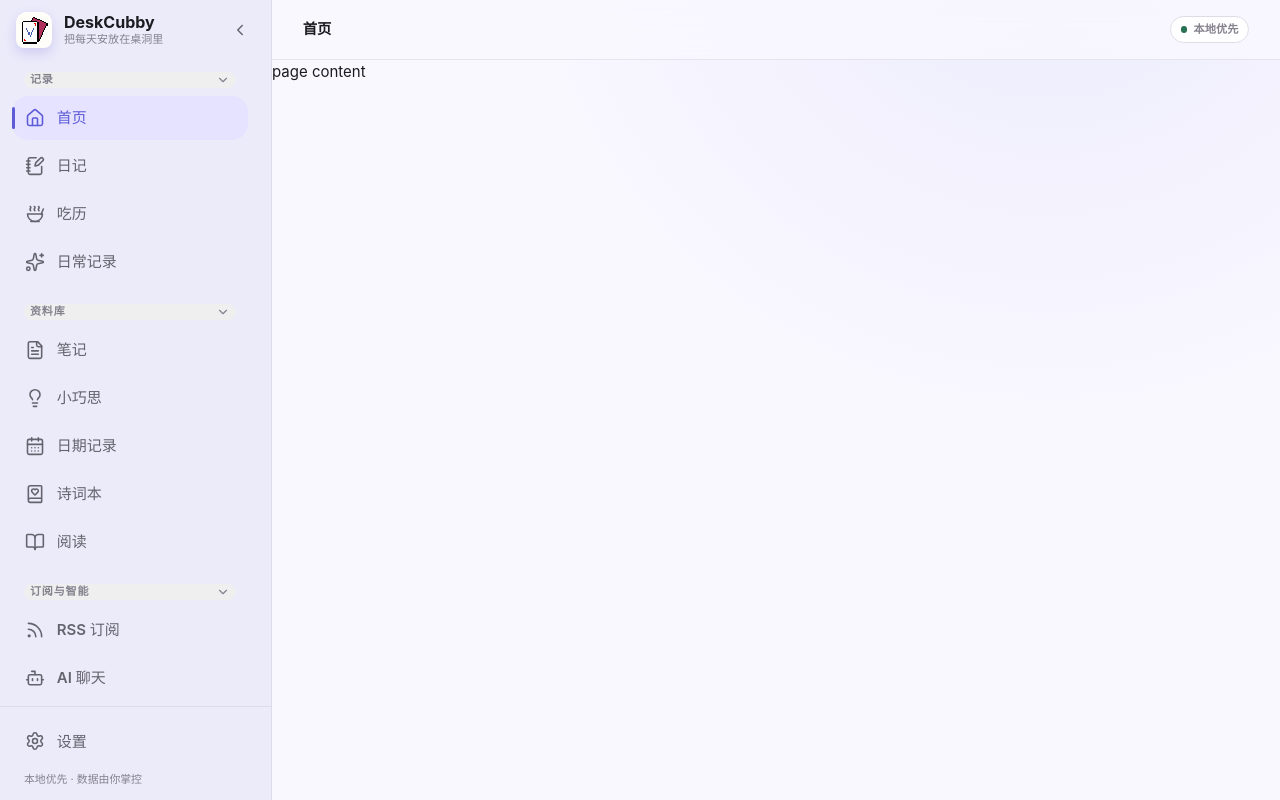
Test: AppShell › visually collapses a category without leaving its links in the tab order
The image size is (1280, 800).
Expected: the element with id "navigation-category-capture" is shown, [12, 96, 248, 284]
Click the button with aria-label "收起分类：记录" at (130, 80), box [24, 72, 236, 88]
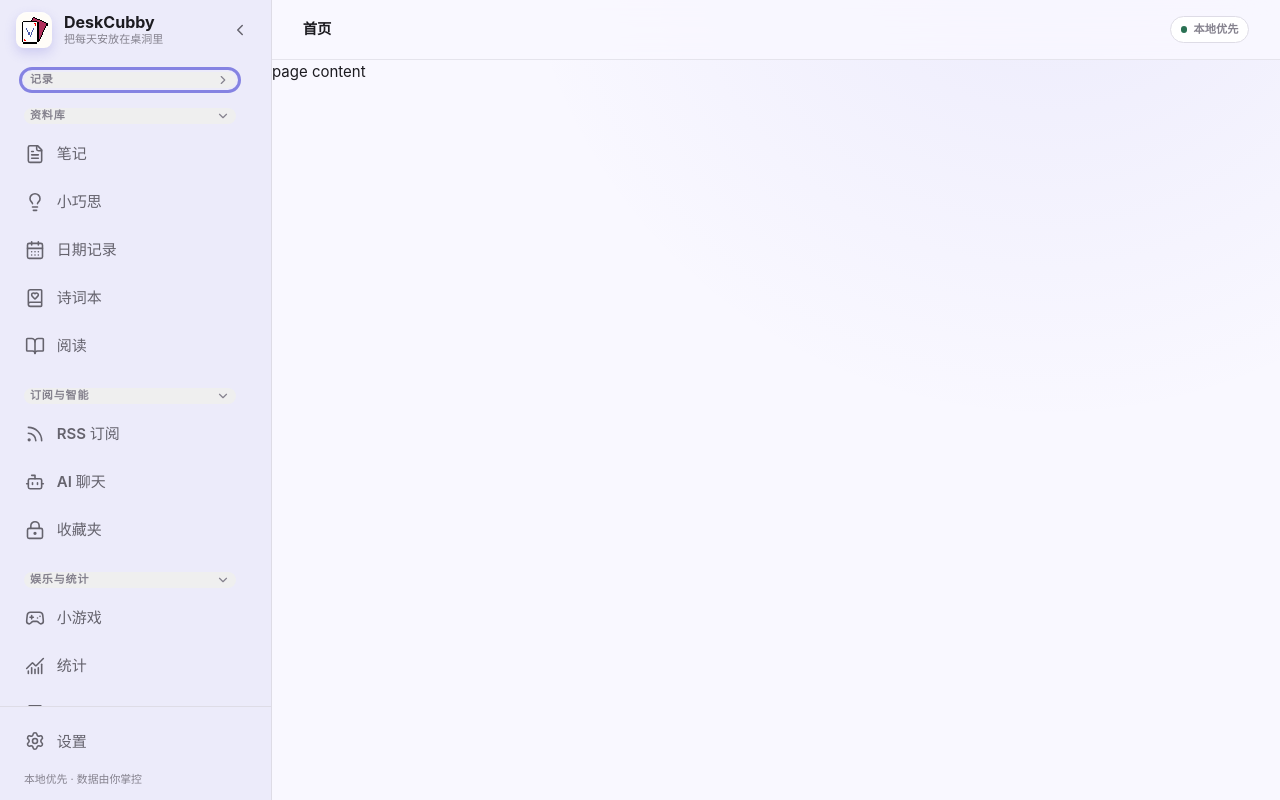
Expected: the link "设置" is shown, [25, 731, 87, 751]
Expected: the button named "收起分类：记录" is collapsed
Expected: the link "日记" is gone
Click the button with aria-label "展开分类：记录" at (130, 80), box [24, 72, 236, 88]
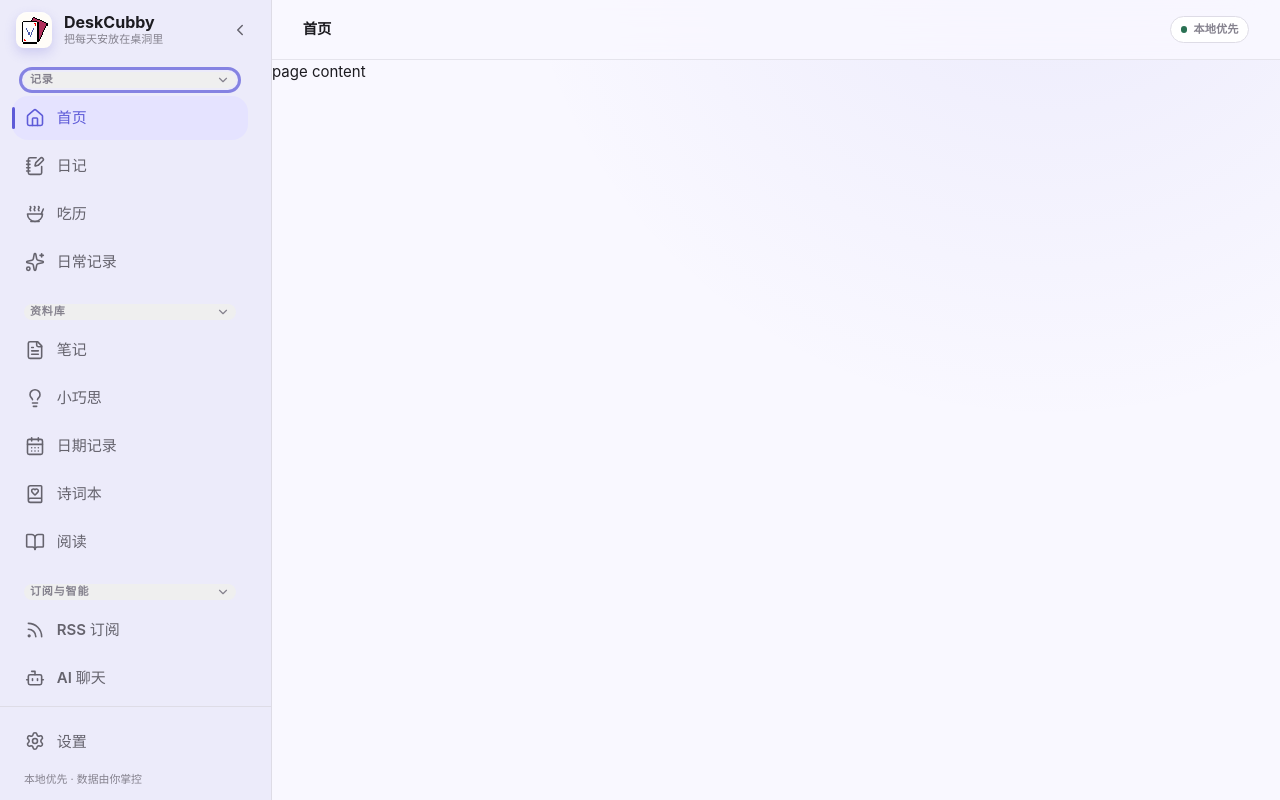
Expected: the link "日记" is shown, [25, 156, 87, 176]
